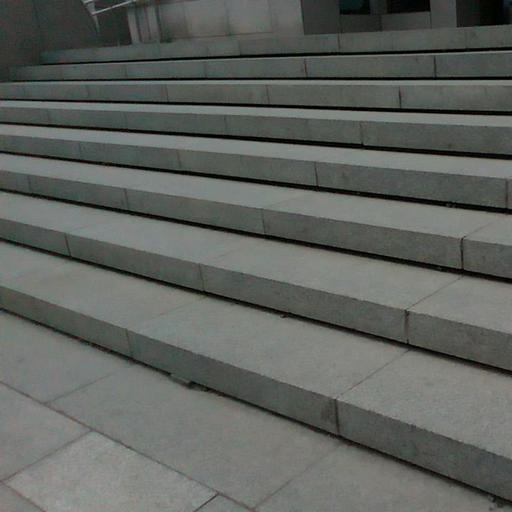stairs: (0, 27, 511, 499)
